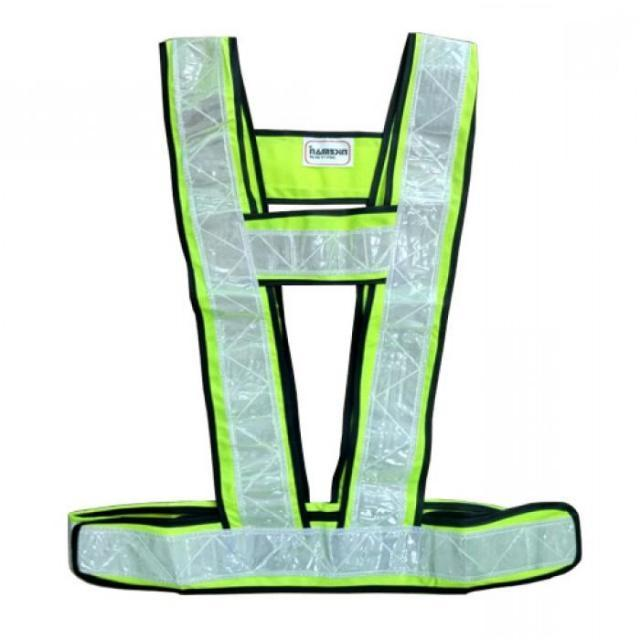reflective_jacket: (20, 10, 598, 629)
